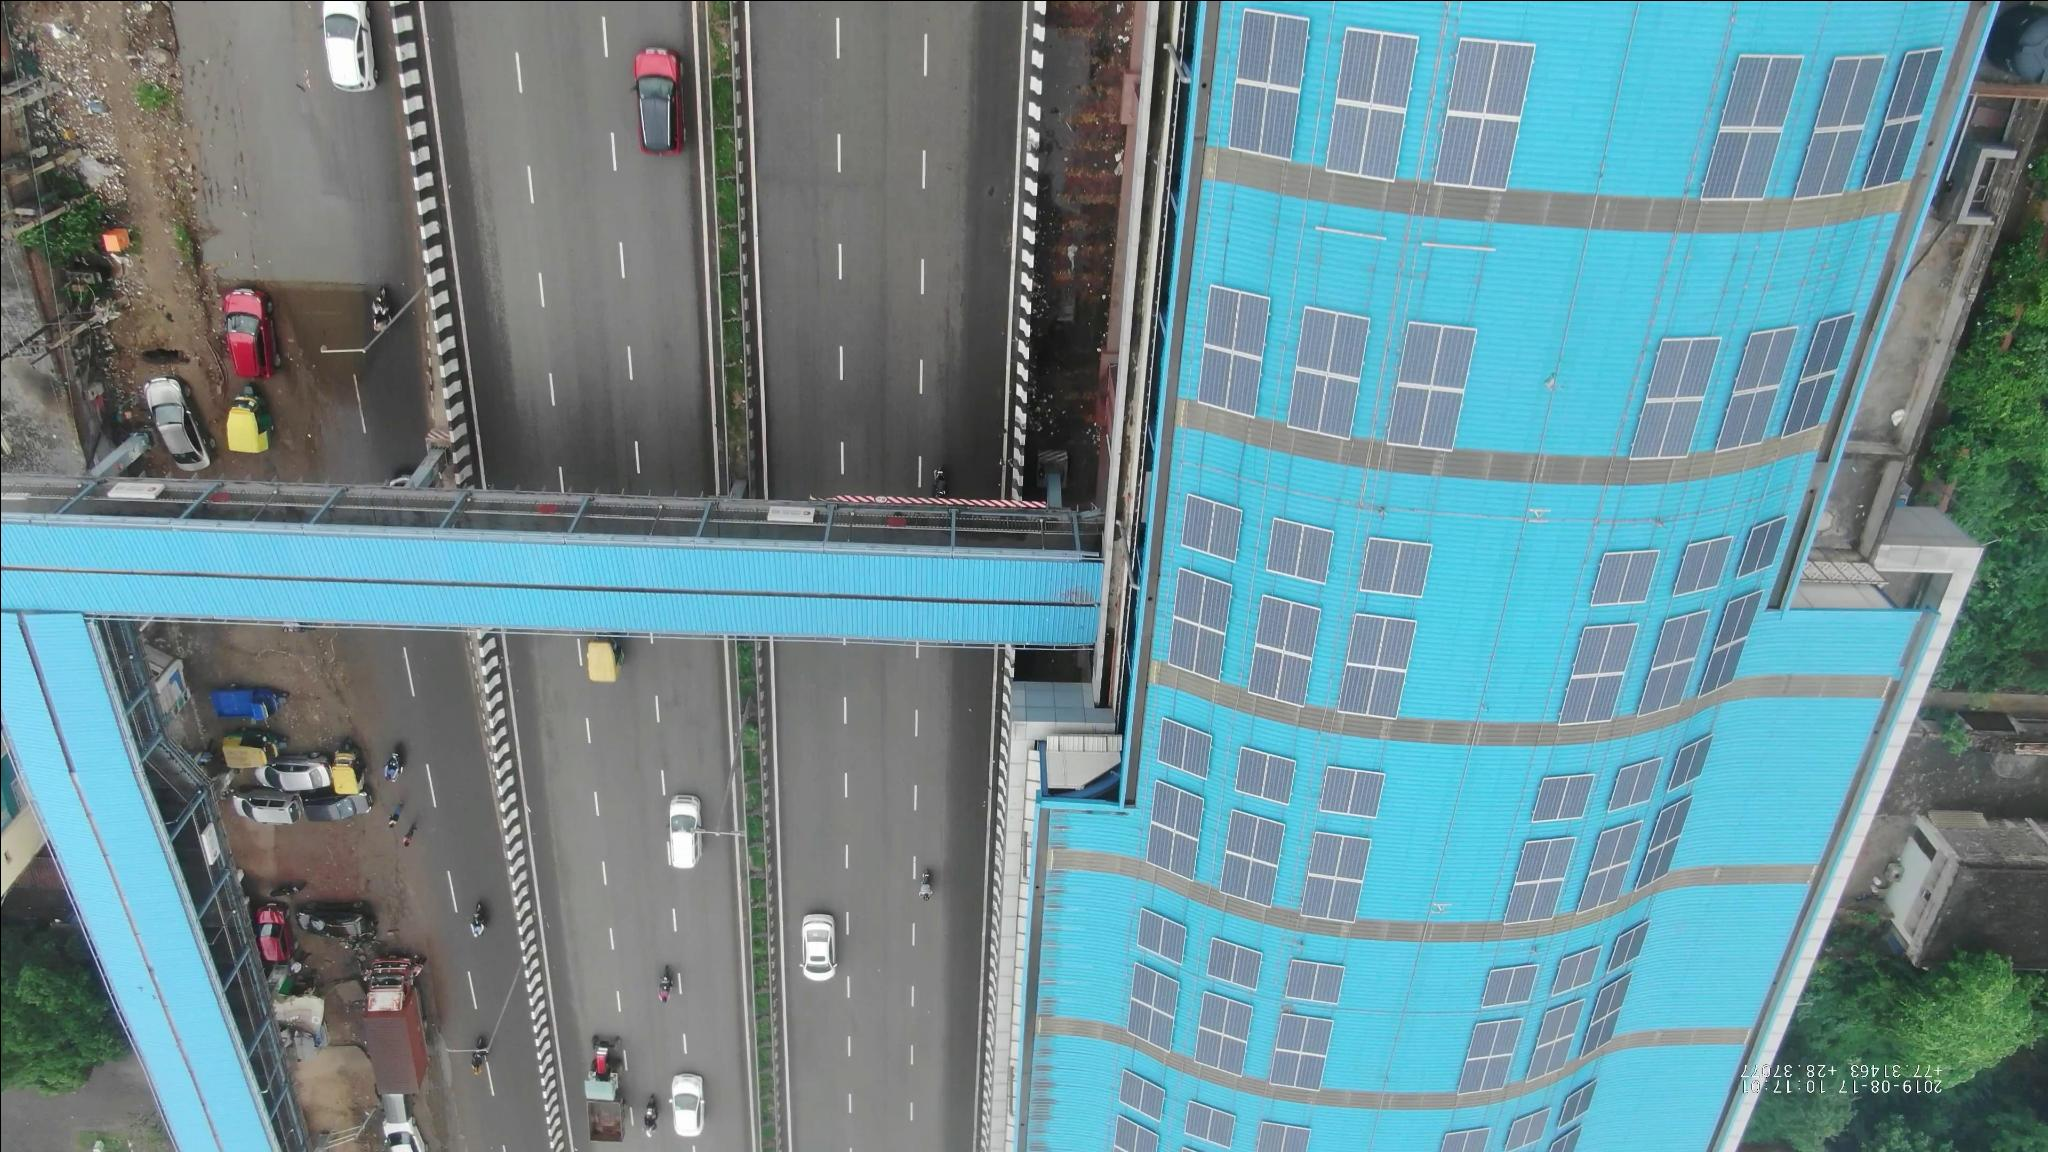Waterlogging: (207, 96, 376, 364)
